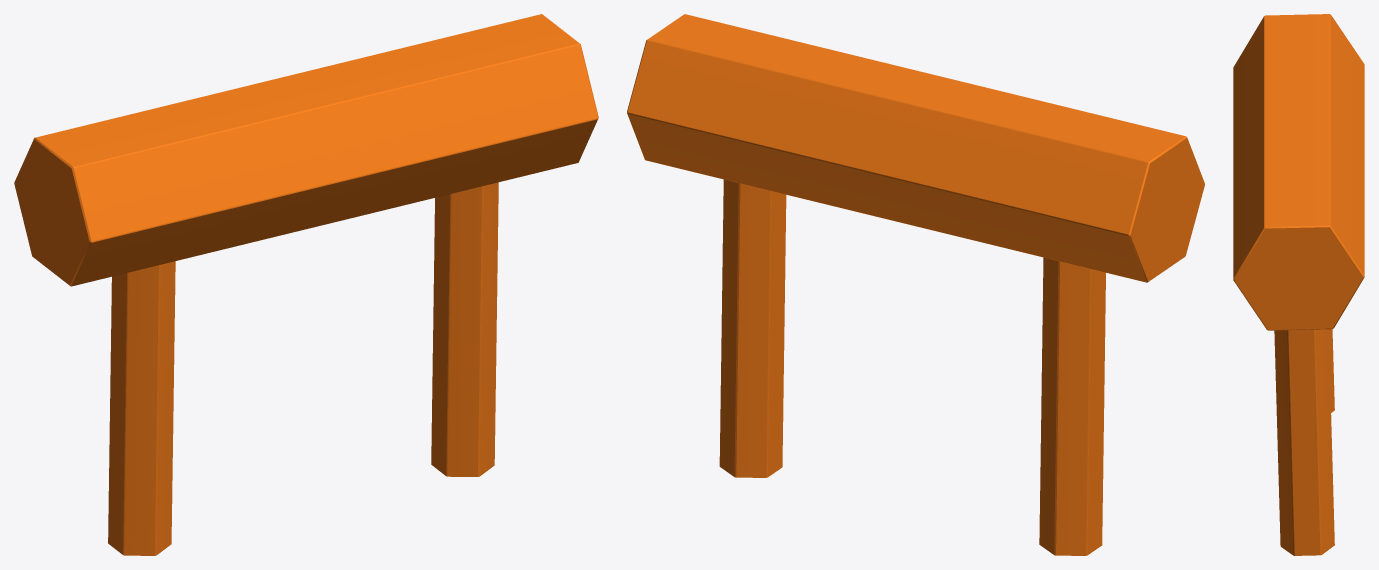
File: AST_inputTerminal_actvLever.fbx
3 renders of one model, left to right at view 1: azimuth 30°, elevation 25°; view 2: azimuth 150°, elevation 25°; view 3: azimuth 270°, elevation 25°, orthographic. The views are drawn at different scales.
Visible parts, largest first — view 1: MSH_inputTerminal_actvLever; view 2: MSH_inputTerminal_actvLever; view 3: MSH_inputTerminal_actvLever.
Part boxes in pixels (<box>): MSH_inputTerminal_actvLever: <box>14,14,598,555</box>; MSH_inputTerminal_actvLever: <box>627,14,1204,555</box>; MSH_inputTerminal_actvLever: <box>1233,14,1364,555</box>.
Bounding box in the file's own units: 32.52 × 25.61 × 8.48.
